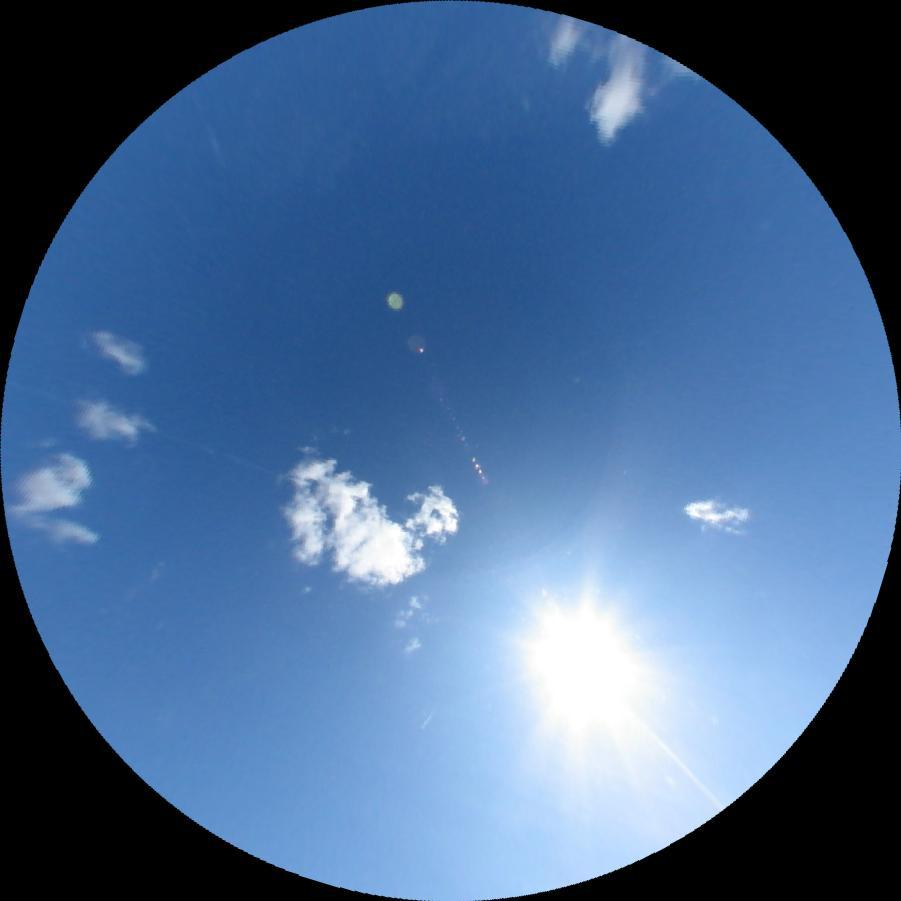contrail young: (419, 709, 435, 731)
parasite: (621, 704, 725, 811)
sun: (505, 576, 654, 745)
